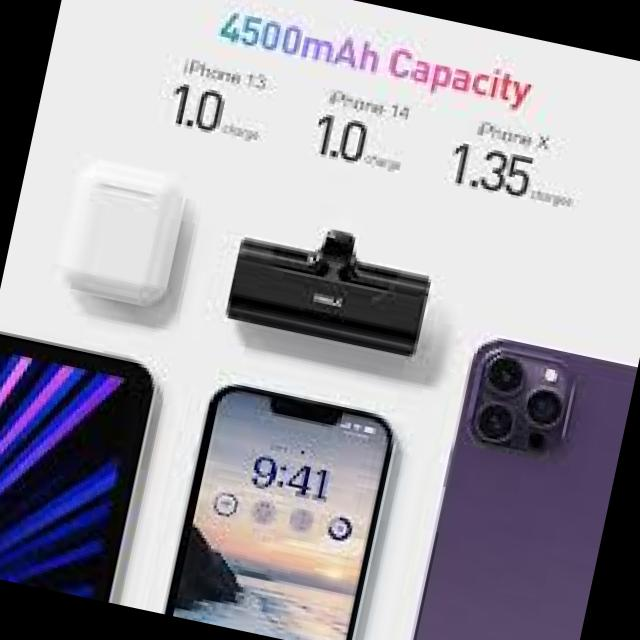portable-charger: (218, 206, 438, 362)
